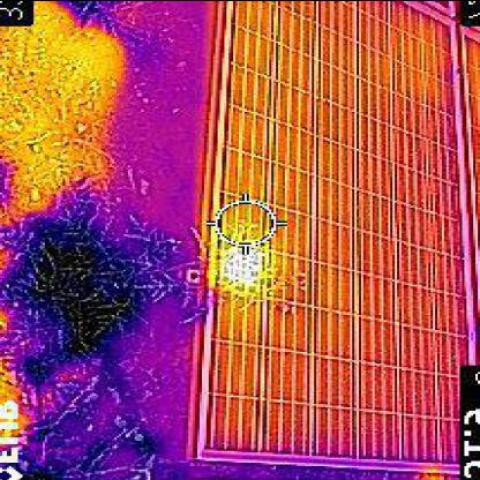fault: (228, 244, 264, 283)
